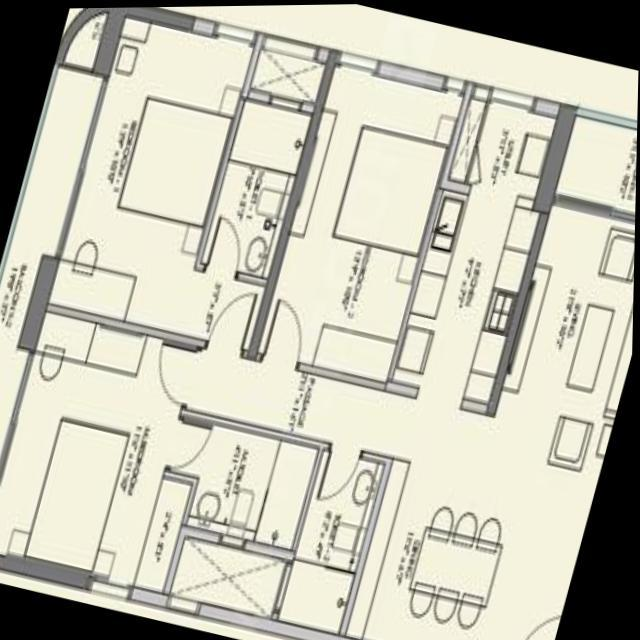Balcony-Sitout: (0, 65, 105, 469), (559, 116, 638, 209), (561, 123, 638, 207)
Bedroom: (258, 57, 470, 385), (260, 73, 462, 380)
Bedroom with Toilet: (0, 311, 322, 621), (0, 307, 326, 595), (48, 10, 319, 352), (55, 12, 315, 346)
Dining: (391, 492, 522, 637)
Enterance-Foyer: (517, 479, 599, 640), (515, 581, 572, 640)
Kitchen: (397, 188, 543, 402), (400, 190, 539, 396)
Living: (479, 201, 636, 509), (481, 204, 636, 509)
Toilet: (169, 417, 322, 548), (204, 98, 314, 278), (205, 96, 312, 280), (283, 449, 389, 632), (283, 453, 385, 634), (192, 423, 320, 548)
Utility: (457, 101, 554, 195), (472, 101, 558, 197)
